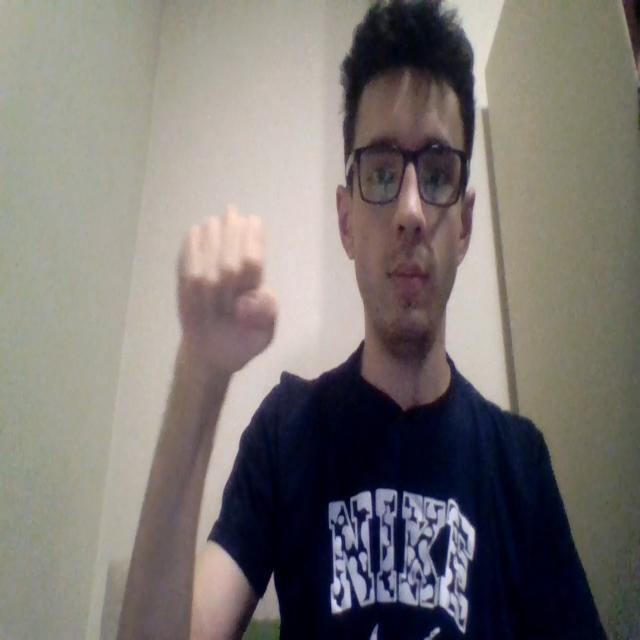yes: (175, 204, 279, 378)
